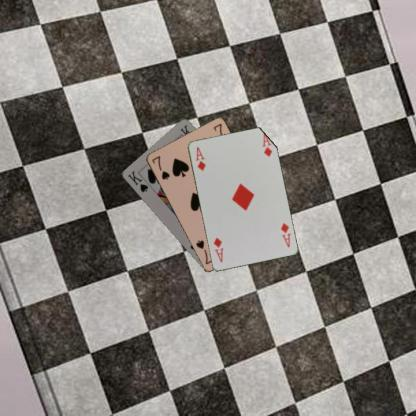7s: (149, 153, 171, 181)
Ad: (278, 220, 292, 249), (193, 144, 207, 172)
Ks: (125, 168, 149, 194)
